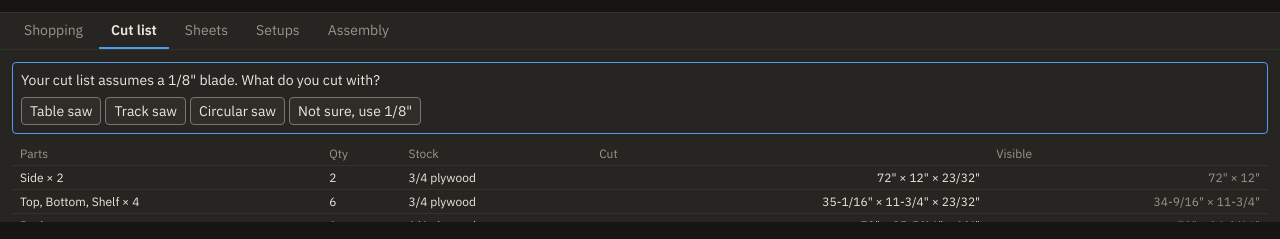
Test case: <Drawer> › shows the four assembly steps
The image size is (1280, 239).
Click the tab "Assembly": (358, 31) [316, 13, 401, 49]
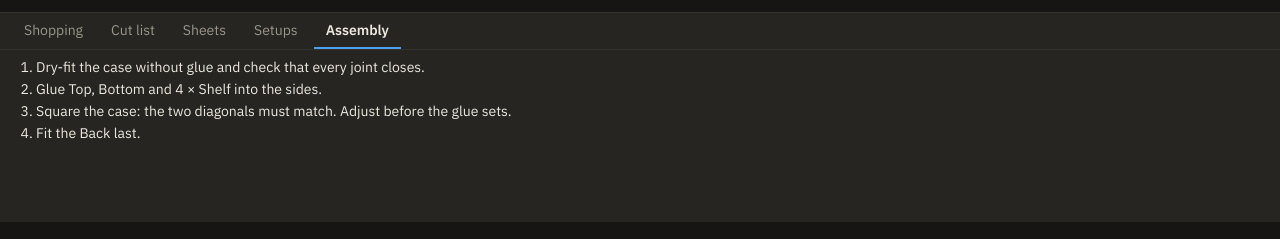
Check: the number of list items with test id "assembly-step" is 4, box [36, 58, 425, 76]; [36, 80, 322, 98]; [36, 102, 512, 120]; [36, 124, 140, 142]
